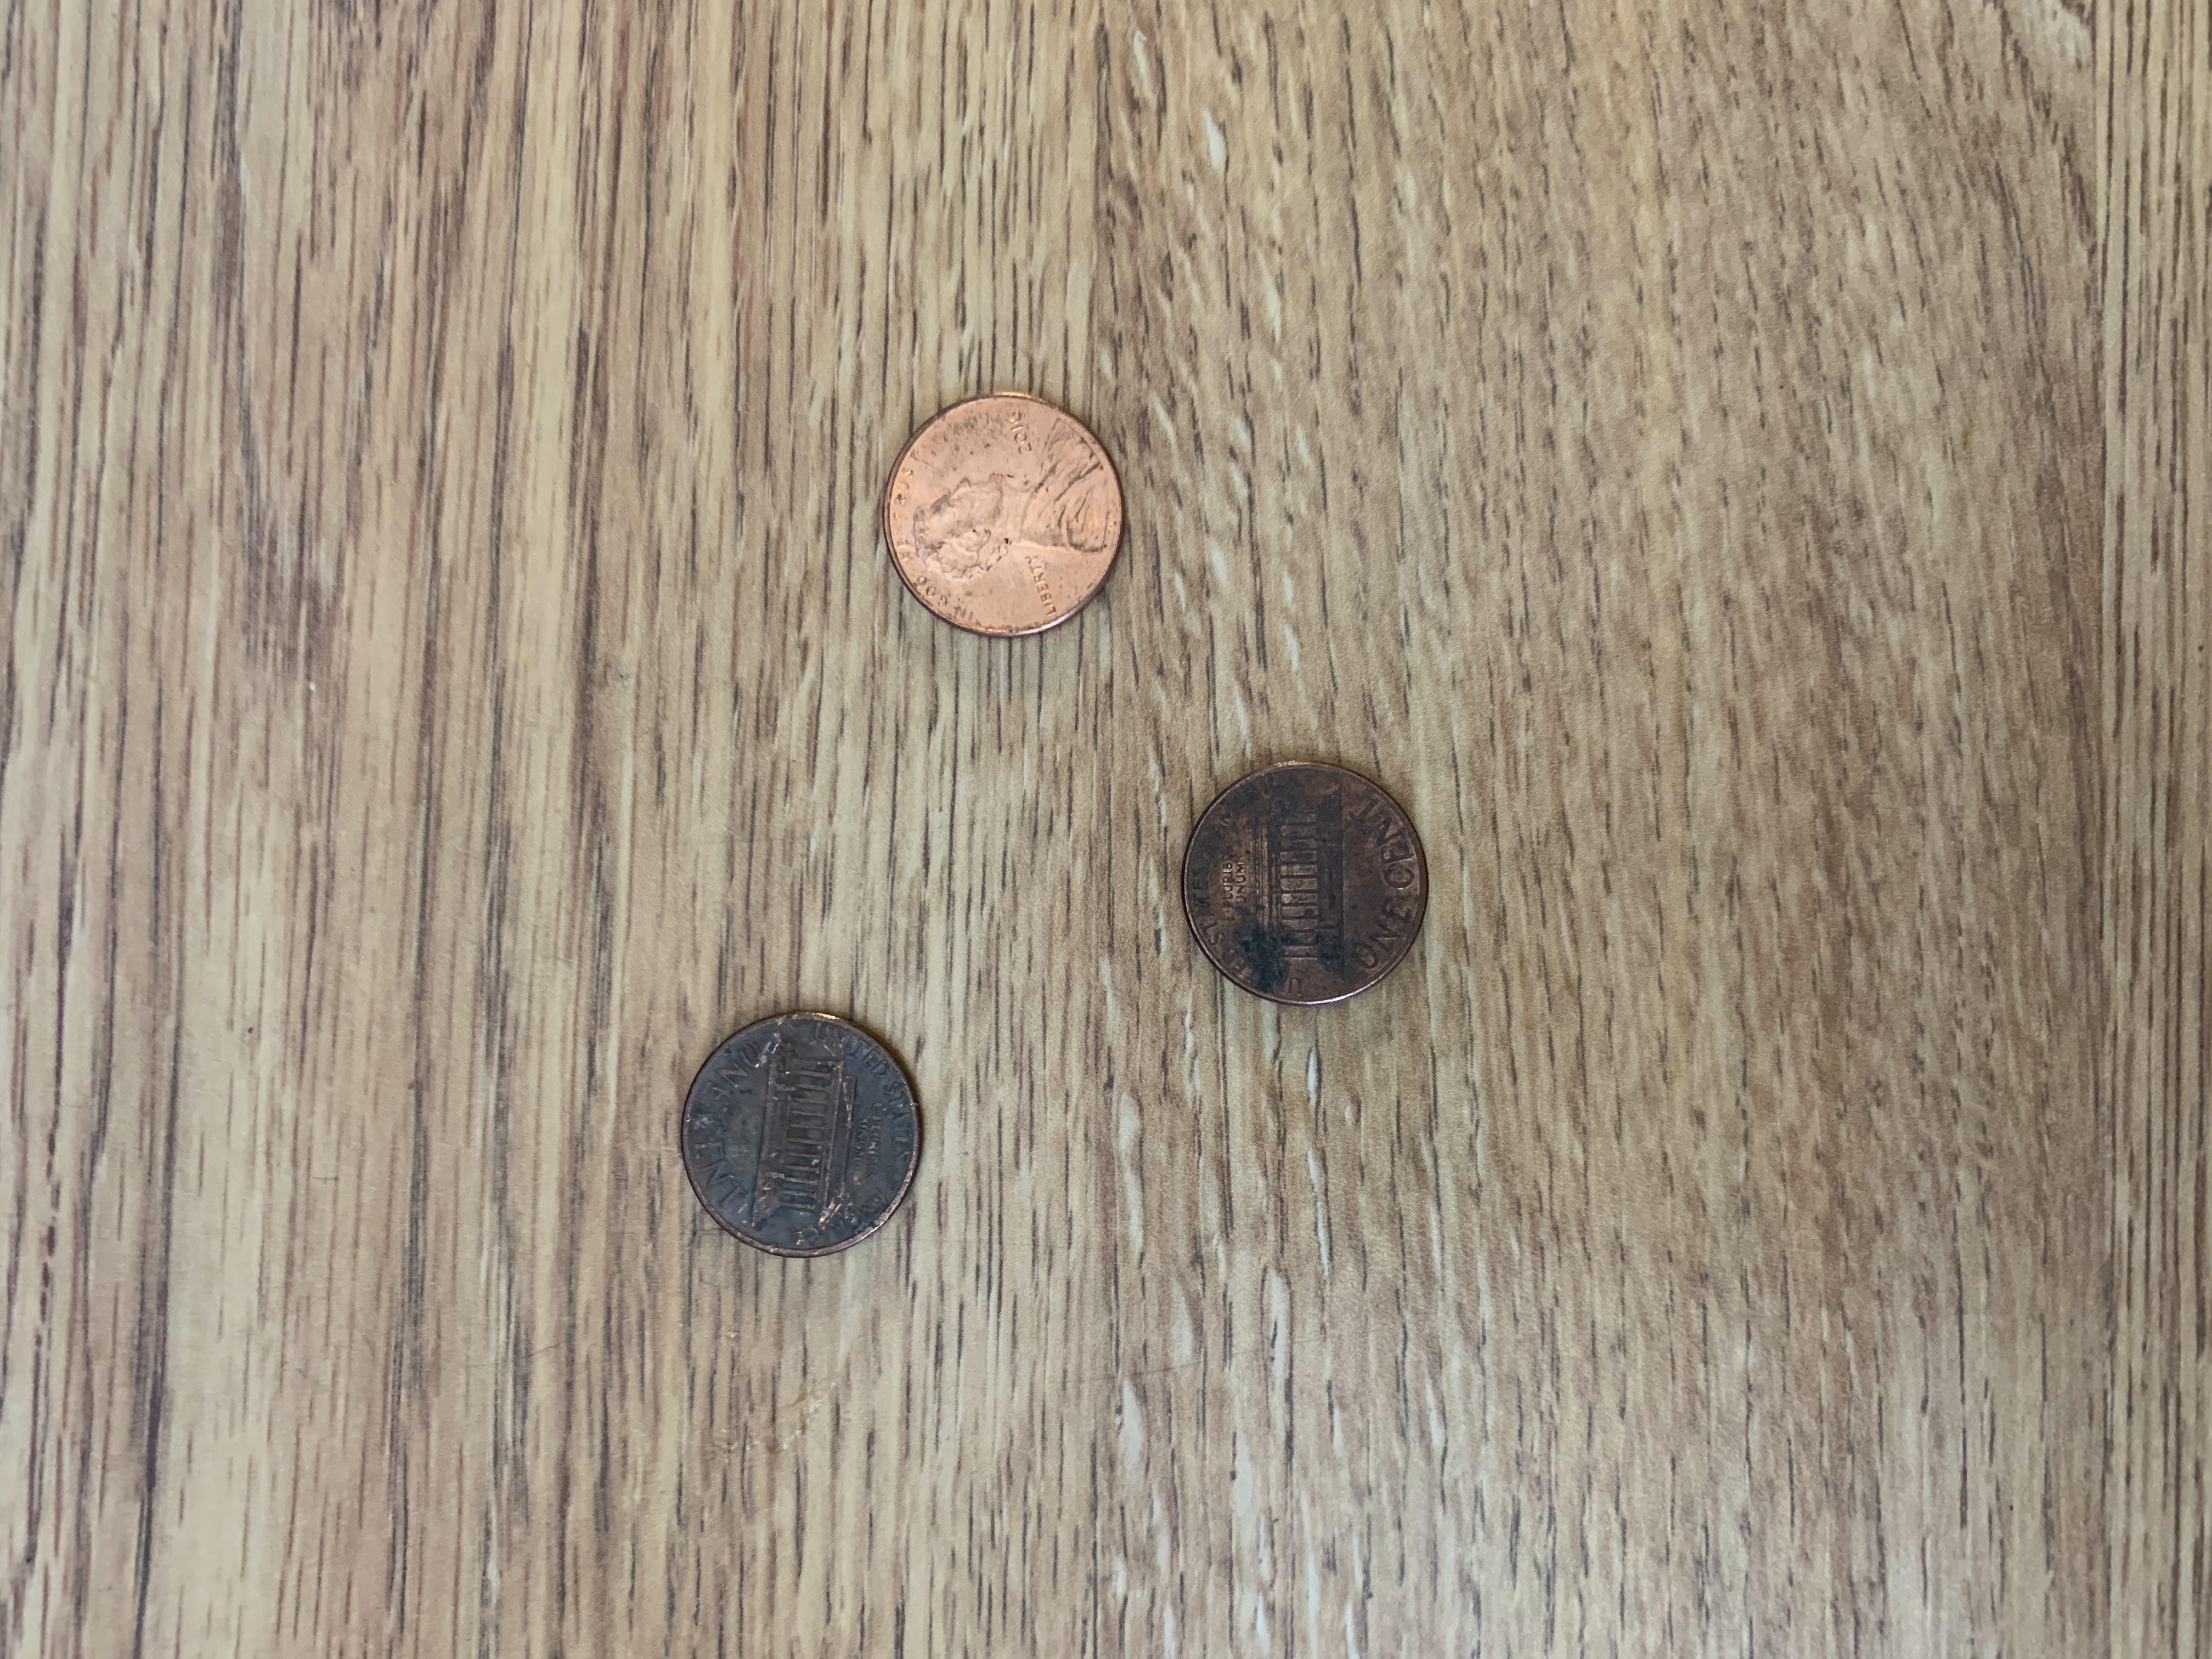Penny: (871, 387, 1139, 660), (671, 1004, 932, 1267), (1174, 753, 1432, 1016)
